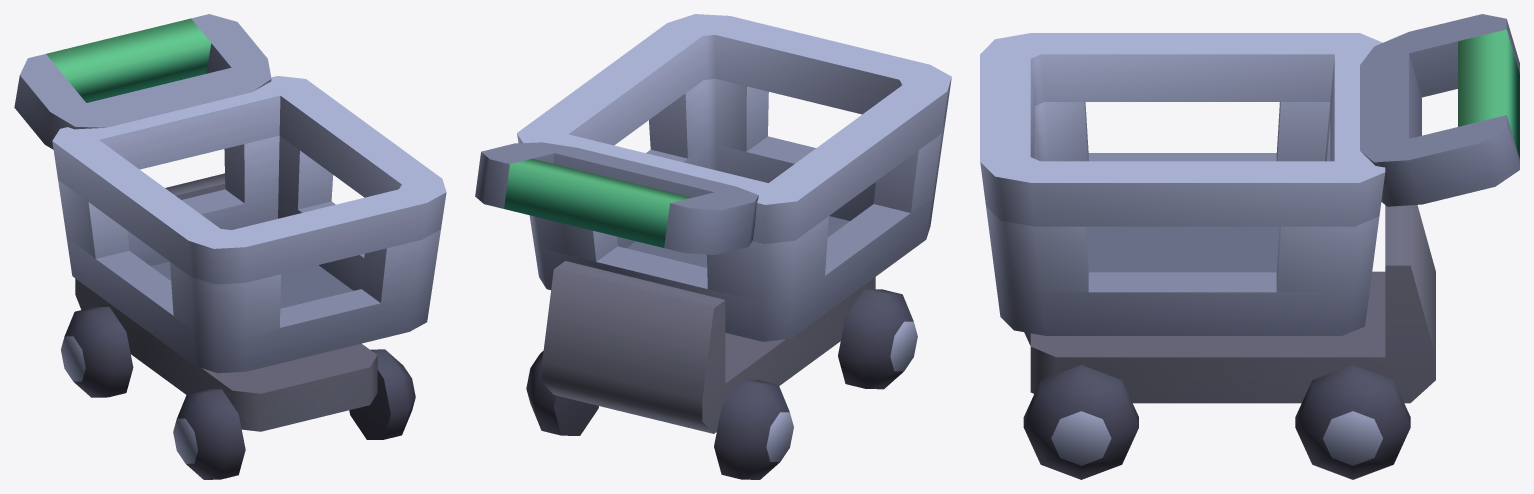
The model's file is shopping-cart.glb.
The picture shows the model from 3 angles, left to right: view 1: azimuth 30°, elevation 25°; view 2: azimuth 150°, elevation 25°; view 3: azimuth 270°, elevation 25°; orthographic projection. The views are drawn at different scales.
Visible parts, largest first — view 1: shopping-cart; view 2: shopping-cart; view 3: shopping-cart.
Boxes of the visible parts, x1,y1,x2,y2 form: shopping-cart: [14, 14, 446, 479]; shopping-cart: [475, 14, 951, 479]; shopping-cart: [980, 14, 1519, 479].
Bounding box in the file's own units: 0.35 × 0.3858 × 0.5328.
1 material, 1 textured.
